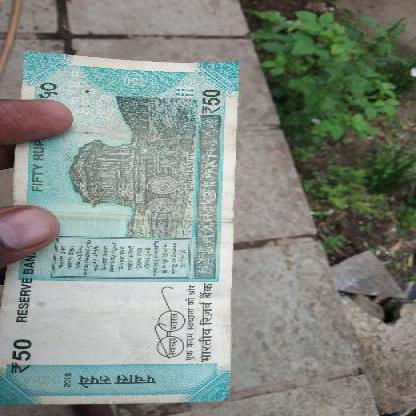New50Back: (0, 59, 230, 405)
